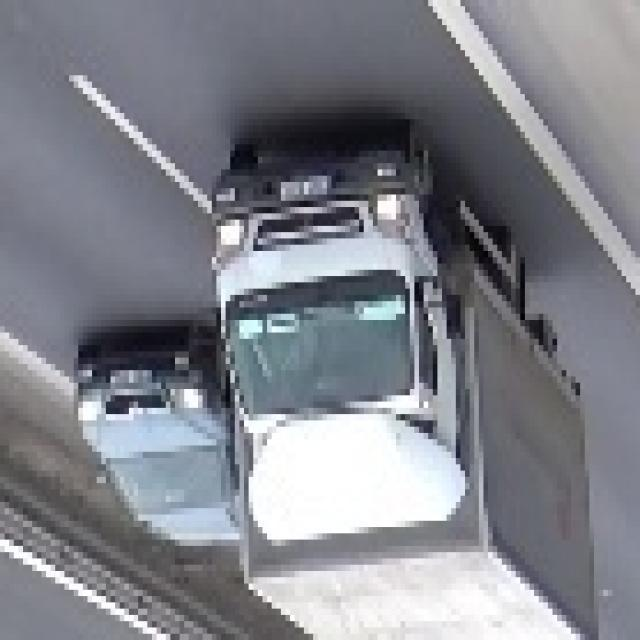truck: (198, 151, 594, 640)
